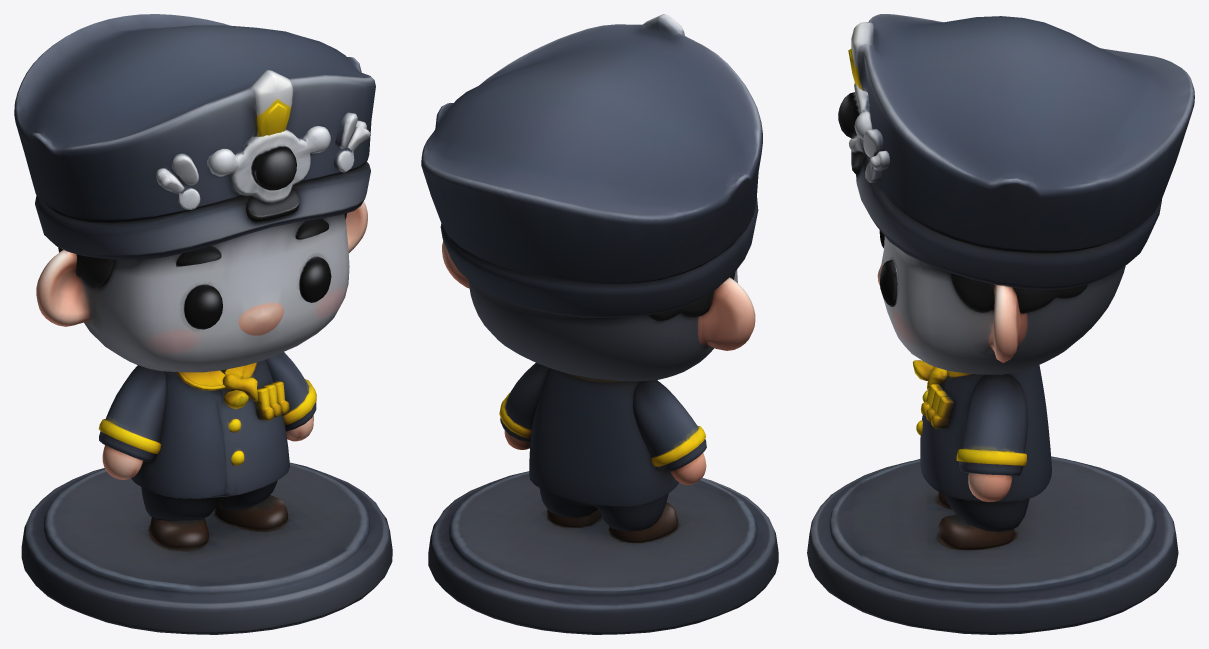
File: malay-king.glb
3 views of the same model, side by side, from view 1: azimuth 30°, elevation 25°; view 2: azimuth 150°, elevation 25°; view 3: azimuth 270°, elevation 25° (orthographic). The views are drawn at different scales.
Parts seen in each view (by area): view 1: tripo_3a6c4705_ec87_4c5f_bc1b_ef0265312f44; view 2: tripo_3a6c4705_ec87_4c5f_bc1b_ef0265312f44; view 3: tripo_3a6c4705_ec87_4c5f_bc1b_ef0265312f44.
Boxes of the visible parts, x1,y1,x2,y2 form: tripo_3a6c4705_ec87_4c5f_bc1b_ef0265312f44: [14, 14, 392, 634]; tripo_3a6c4705_ec87_4c5f_bc1b_ef0265312f44: [421, 14, 778, 634]; tripo_3a6c4705_ec87_4c5f_bc1b_ef0265312f44: [807, 14, 1194, 634].
Bounding box in the file's own units: 0.646 × 0.9995 × 0.6577.
1 material, 1 textured.
